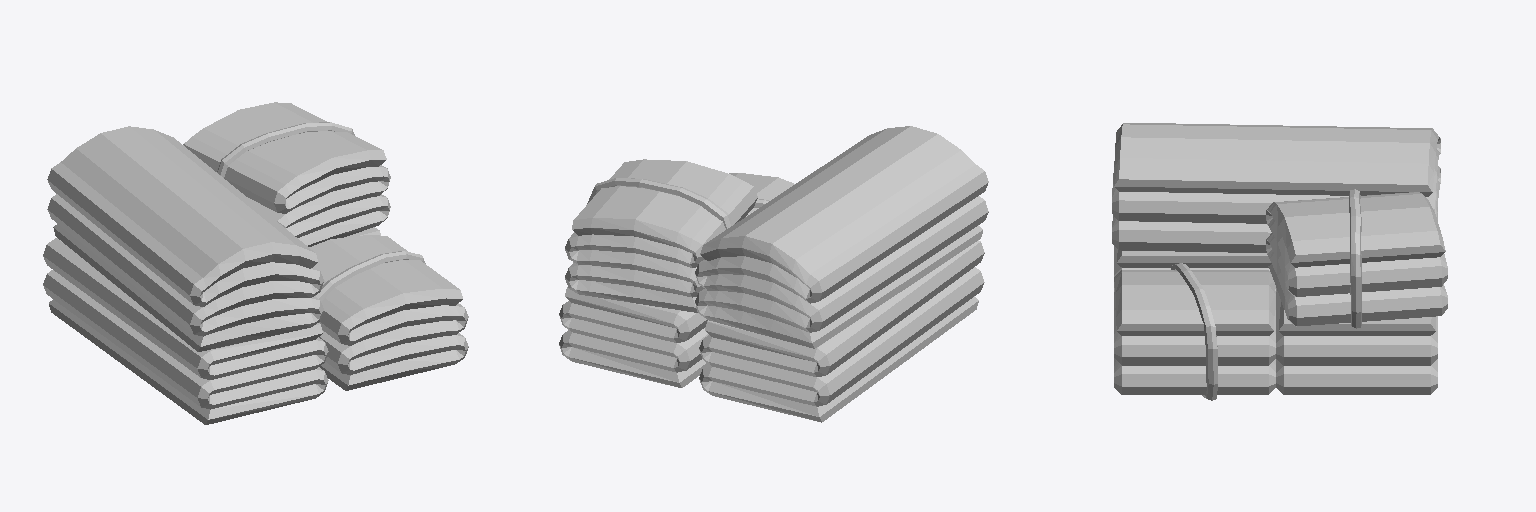
File: Textiles_Stack_Large_Colored.obj
3 renders of one model, left to right at view 1: azimuth 30°, elevation 25°; view 2: azimuth 150°, elevation 25°; view 3: azimuth 270°, elevation 25°, orthographic.
Parts seen in each view (by area): view 1: Textiles_Stack_Large_Colored; view 2: Textiles_Stack_Large_Colored; view 3: Textiles_Stack_Large_Colored.
Boxes of the visible parts, x1=… form: Textiles_Stack_Large_Colored: x1=43, y1=102, x2=468, y2=424; Textiles_Stack_Large_Colored: x1=559, y1=126, x2=988, y2=422; Textiles_Stack_Large_Colored: x1=1112, y1=123, x2=1447, y2=400.
Size of the model in its own units: 1.64 by 0.9556 by 1.66.